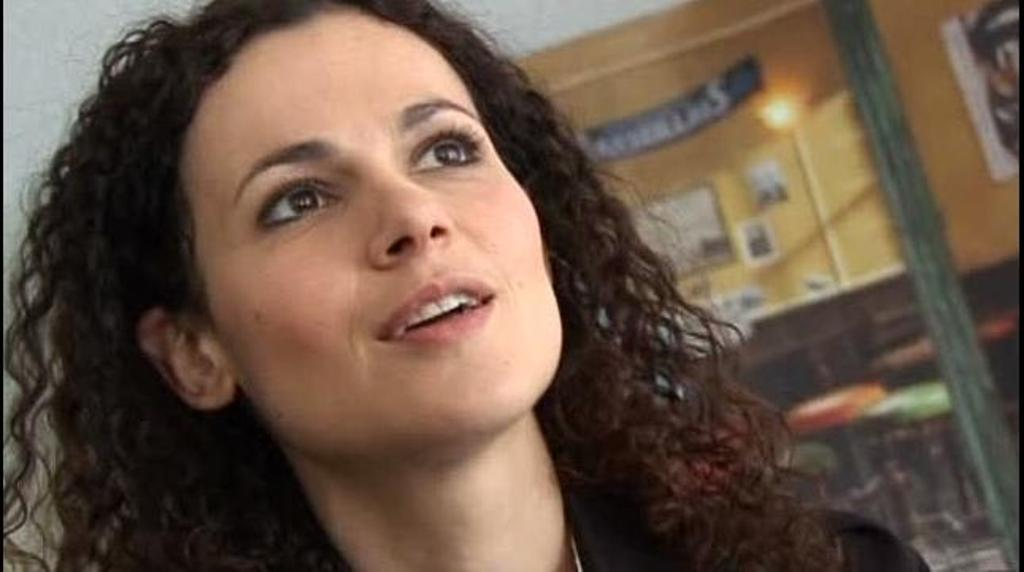face: (176, 10, 566, 442)
